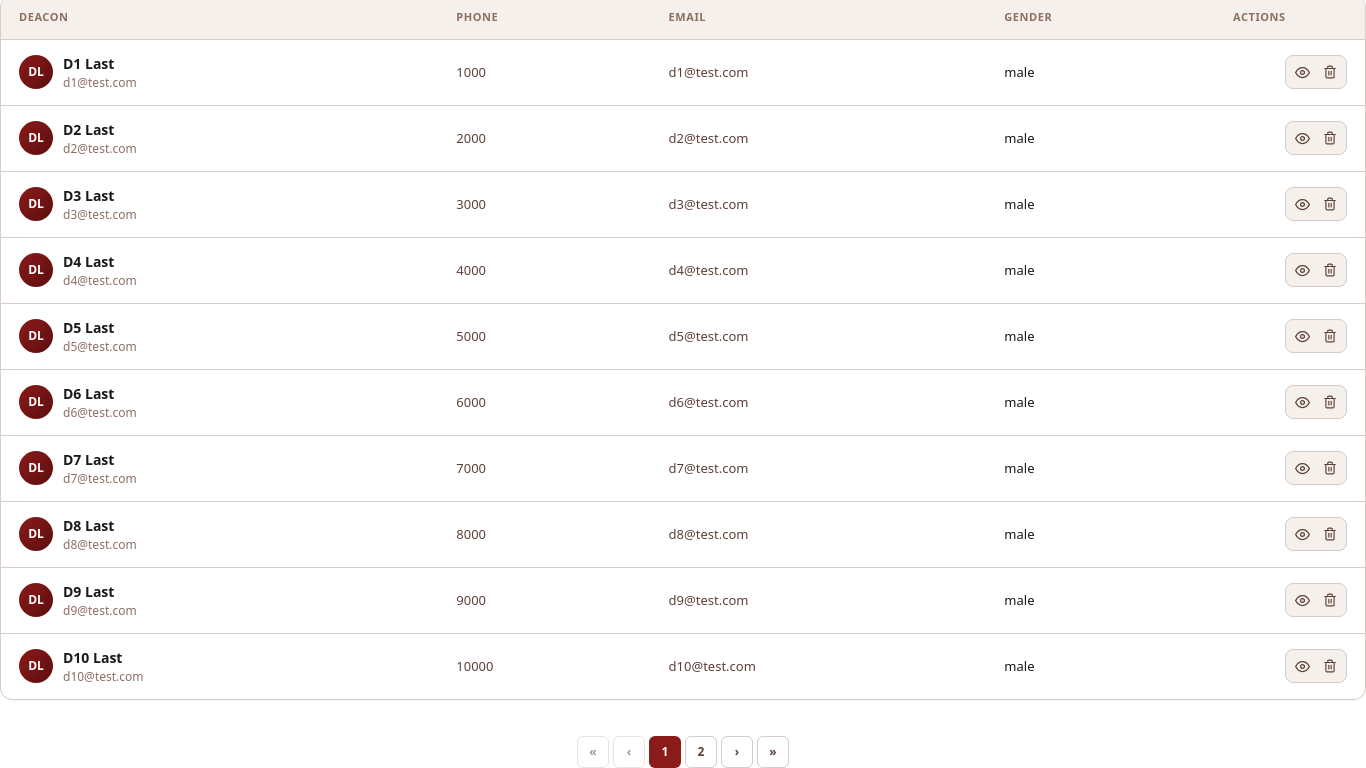
Scenario: Deacons › paginates through pages
(page scrolled)
Expected: the text "D1 Last" is shown, [63,54,114,73]
Expected: the text "D11 Last" is not shown
Click the button "›" at (737, 752), box [721,736,753,767]
(page scrolled)
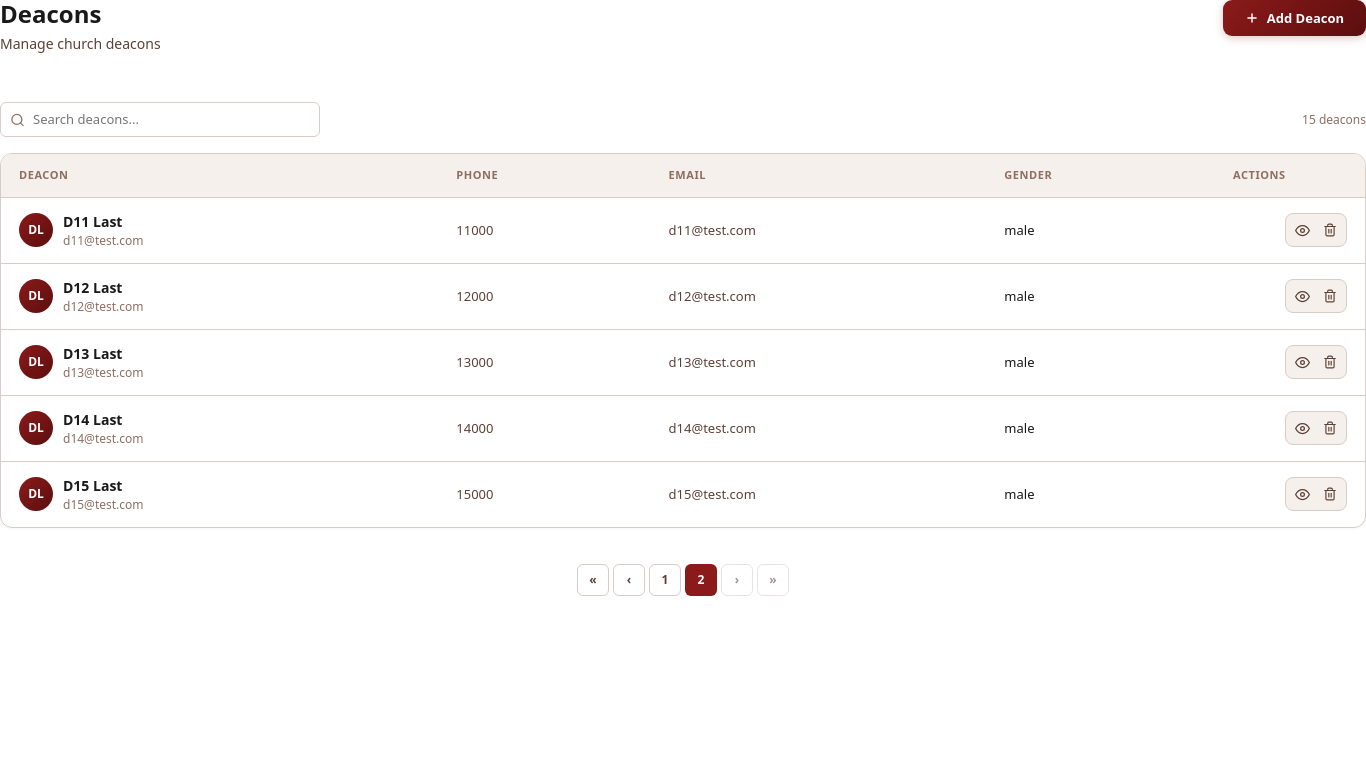
Result: the text "D1 Last" is gone
Result: the text "D11 Last" is shown at [63,212,122,231]
